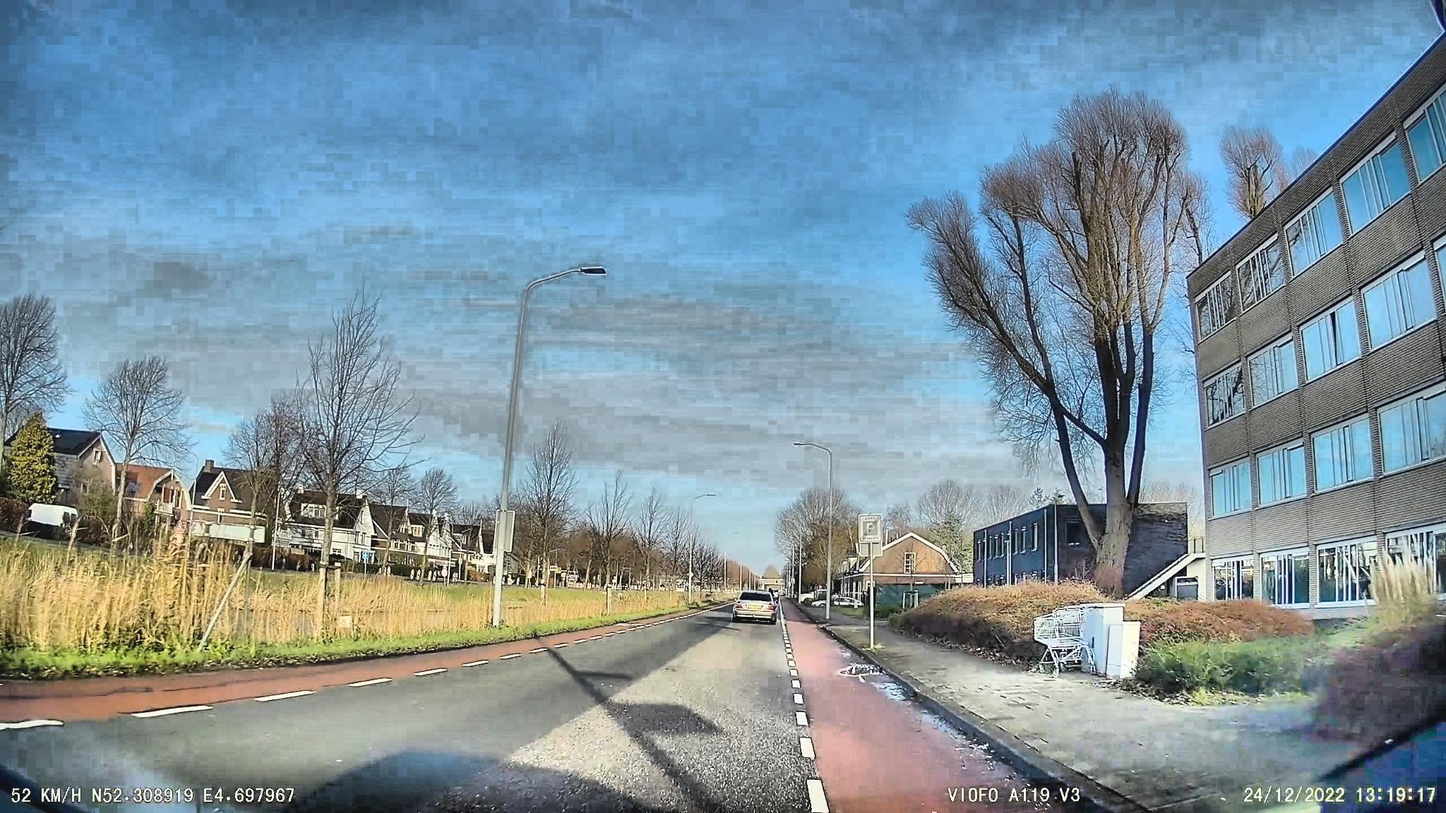Roads: (0, 615, 1106, 813)
